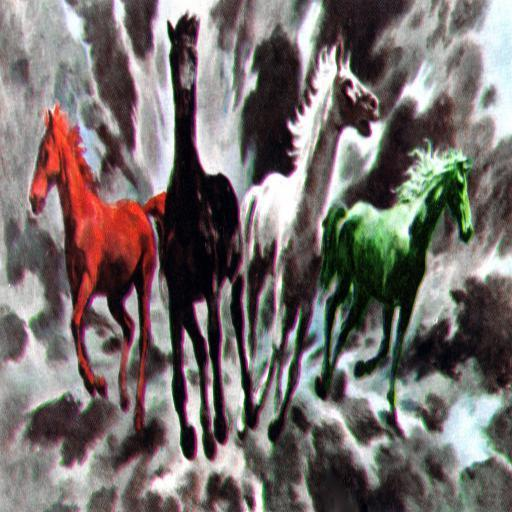horse: (240, 38, 380, 436), (26, 97, 167, 430), (162, 7, 257, 473), (320, 146, 476, 422)
